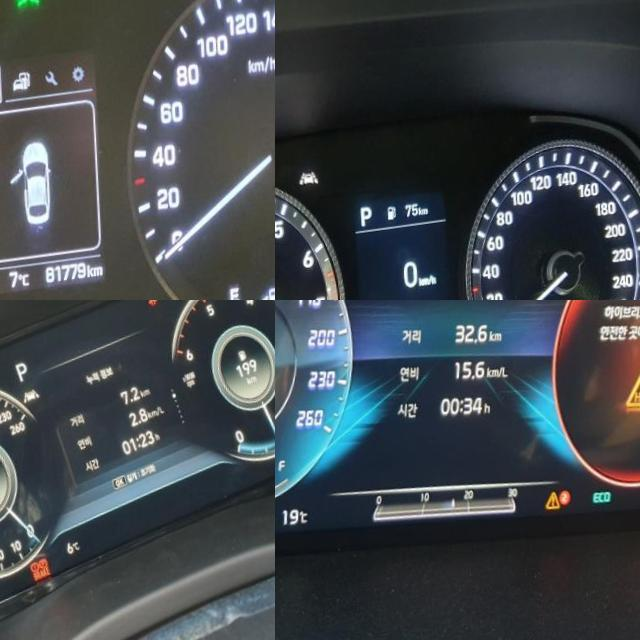Central Warning lamp: (536, 502, 555, 523)
LaneCenteringOff: (295, 177, 315, 194)
SideLamp: (11, 0, 38, 19)
